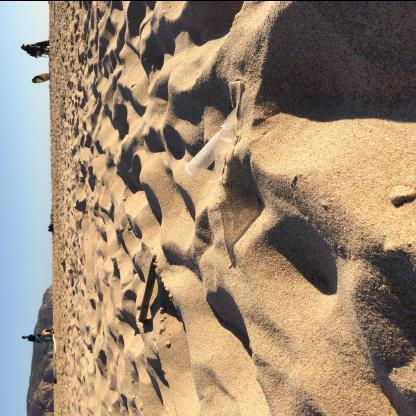plastik: (185, 128, 239, 183)
